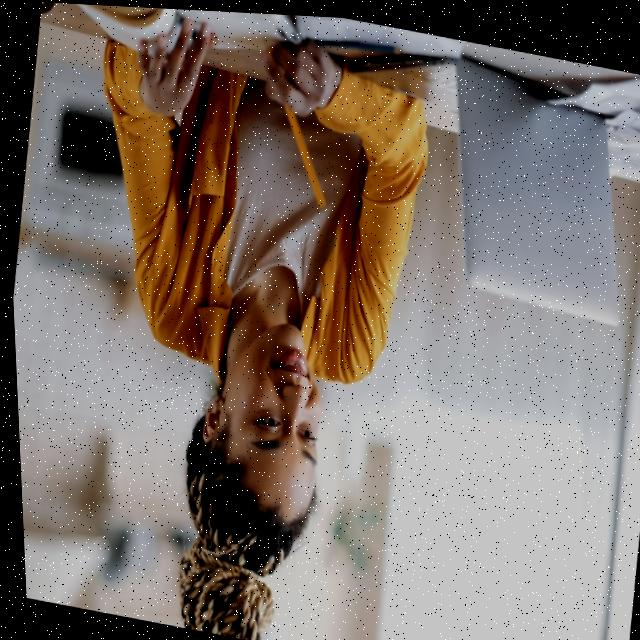studying-person: (0, 0, 452, 640)
